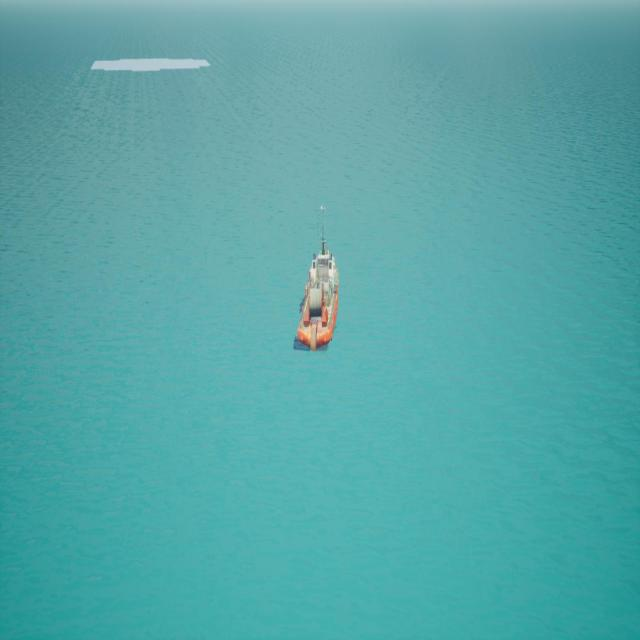tug boat: (297, 211, 342, 354)
